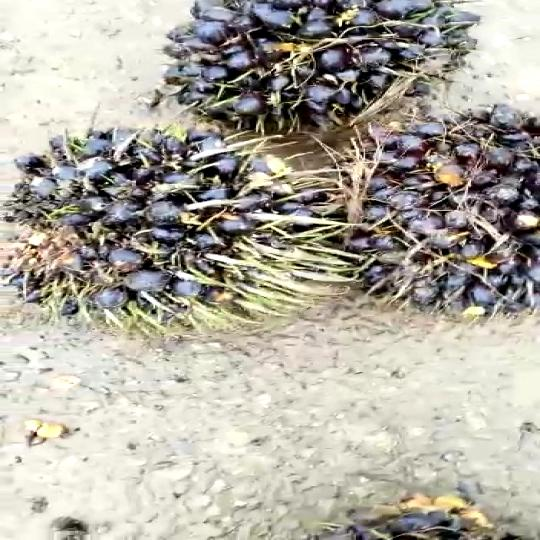mentah: (7, 125, 303, 347), (310, 100, 540, 324), (142, 0, 502, 135)
